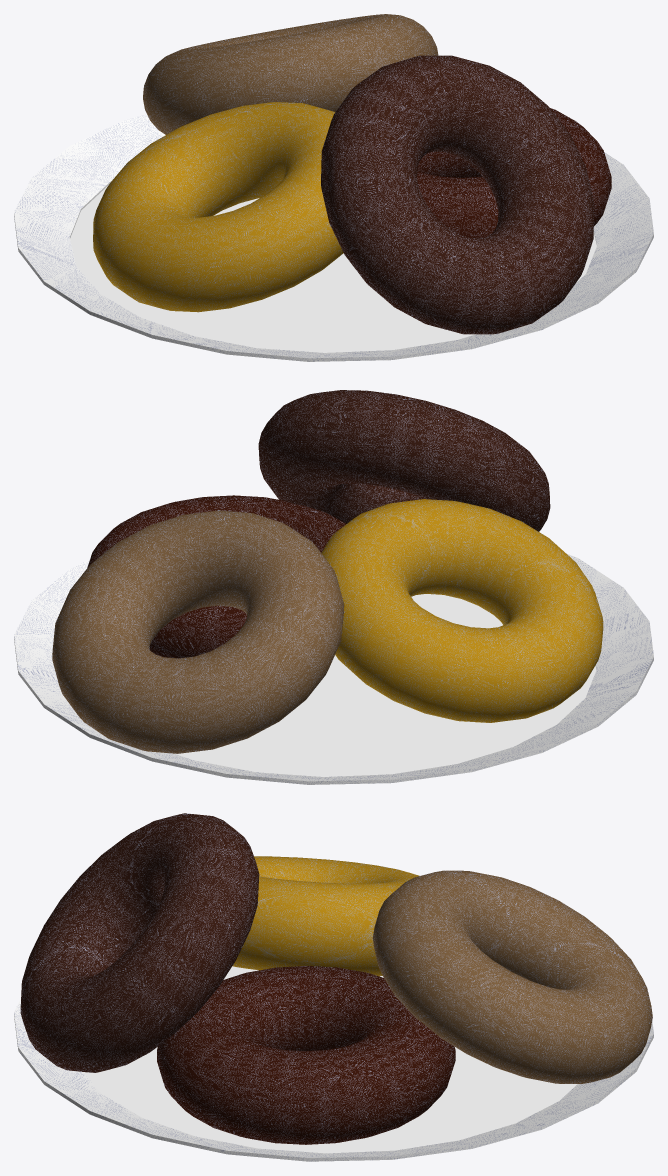
3 renders of one model, top to bottom at view 1: azimuth 30°, elevation 25°; view 2: azimuth 150°, elevation 25°; view 3: azimuth 270°, elevation 25°, orthographic.
Parts seen in each view (by area): view 1: donuts (×6); view 2: donuts (×6); view 3: donuts (×6).
Part boxes in pixels (<box>): donuts (×6): <box>14,14,653,361</box>; donuts (×6): <box>14,390,653,784</box>; donuts (×6): <box>14,813,653,1161</box>.
Bounding box in the file's own units: 13390 × 13390 × 5106.
